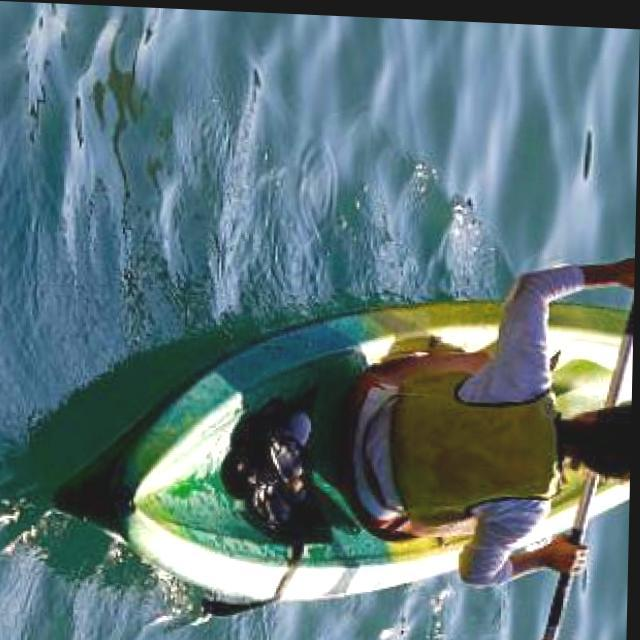kayak: (91, 263, 635, 609), (91, 296, 505, 613), (547, 288, 635, 400), (522, 470, 632, 543)
